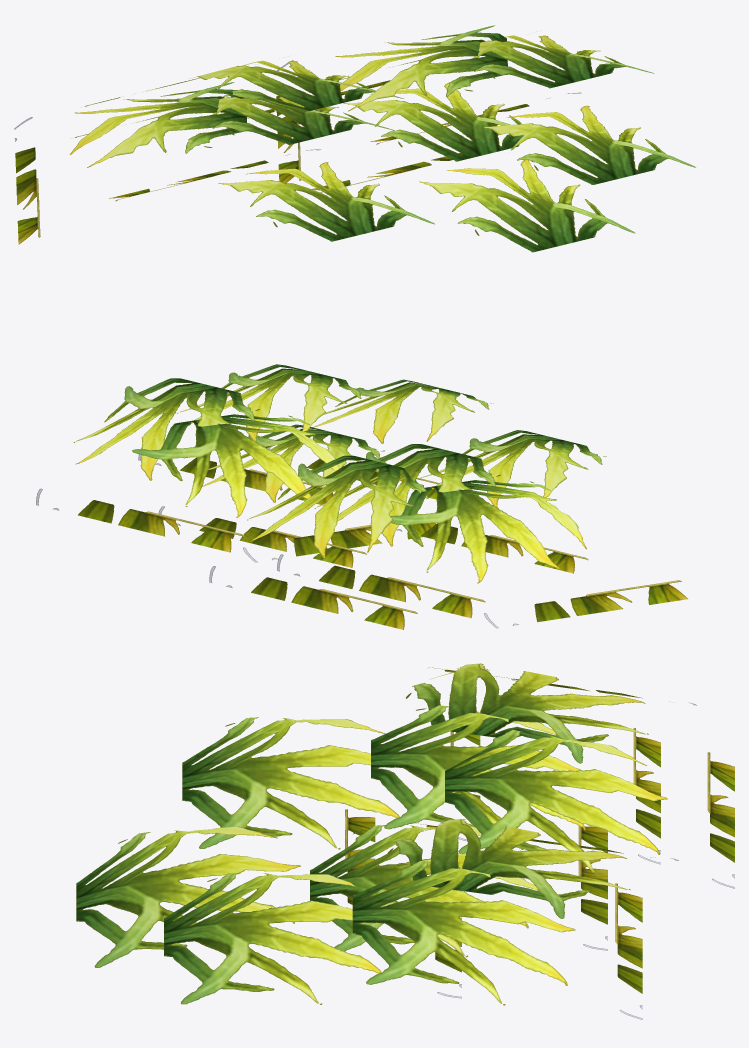
The model's file is shuye_002.FBX.
3 views of the same model, one above another, from view 1: azimuth 30°, elevation 25°; view 2: azimuth 150°, elevation 25°; view 3: azimuth 270°, elevation 25° (orthographic). The views are drawn at different scales.
Parts seen in each view (by area): view 1: Object243; view 2: Object243; view 3: Object243.
Boxes of the visible parts, x1,y1,x2,y2 form: Object243: (14,25,695,252); Object243: (36,364,687,629); Object243: (76,663,734,1019).
Bounding box in the file's own units: 172 × 23.44 × 138.
